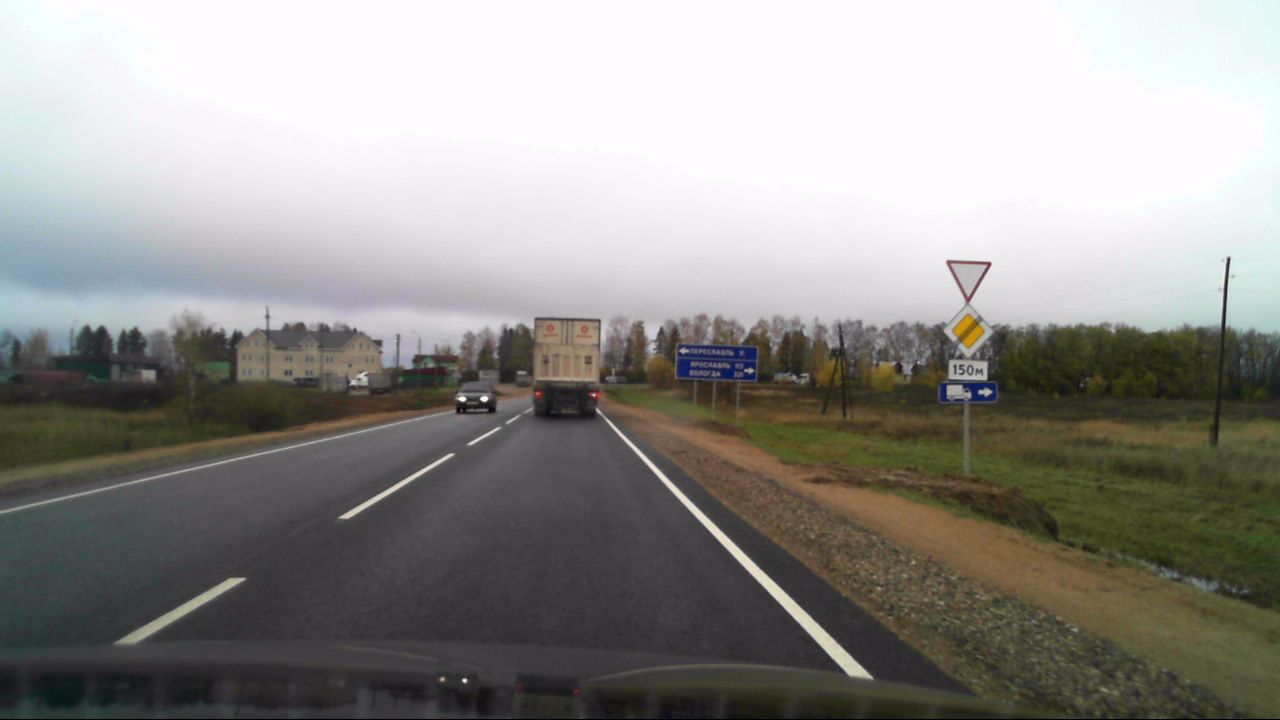main road: (941, 304, 993, 359)
